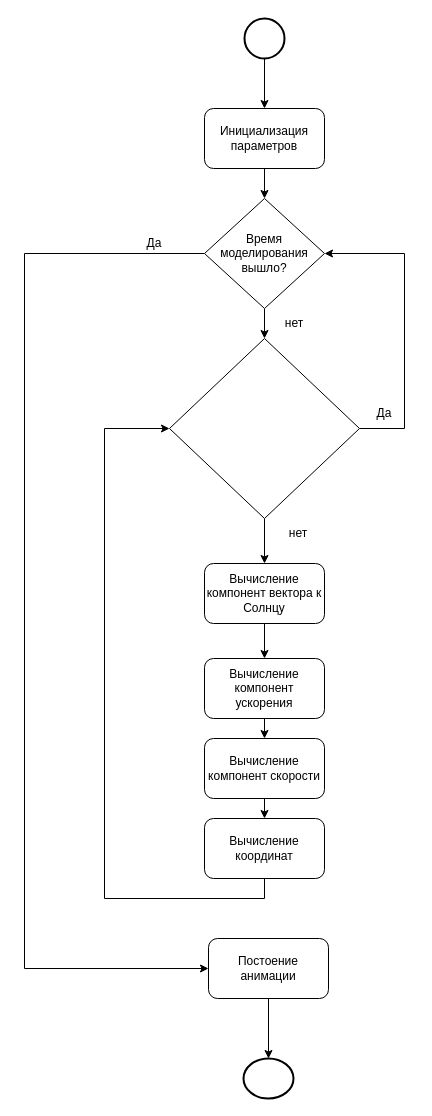
Some shapes in this 432 by 1116 pixel diagram are drawn without their labels. The centre of each missing label's shape, as x and y in pixels:
Конец: (268,1078)
Рассчет координат в текущий момент времени проведен для всех планет: (264,428)
Старт: (264,38)
